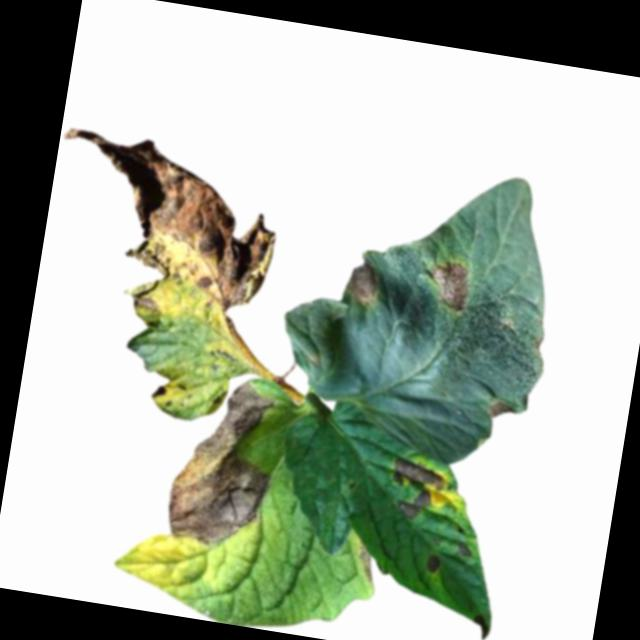Early_blight: (37, 121, 289, 325), (161, 370, 286, 554), (383, 453, 448, 523), (425, 256, 474, 313), (344, 260, 385, 307), (483, 395, 516, 422), (357, 540, 378, 582), (472, 612, 491, 640), (422, 551, 445, 574), (149, 376, 170, 400), (454, 538, 475, 557)
